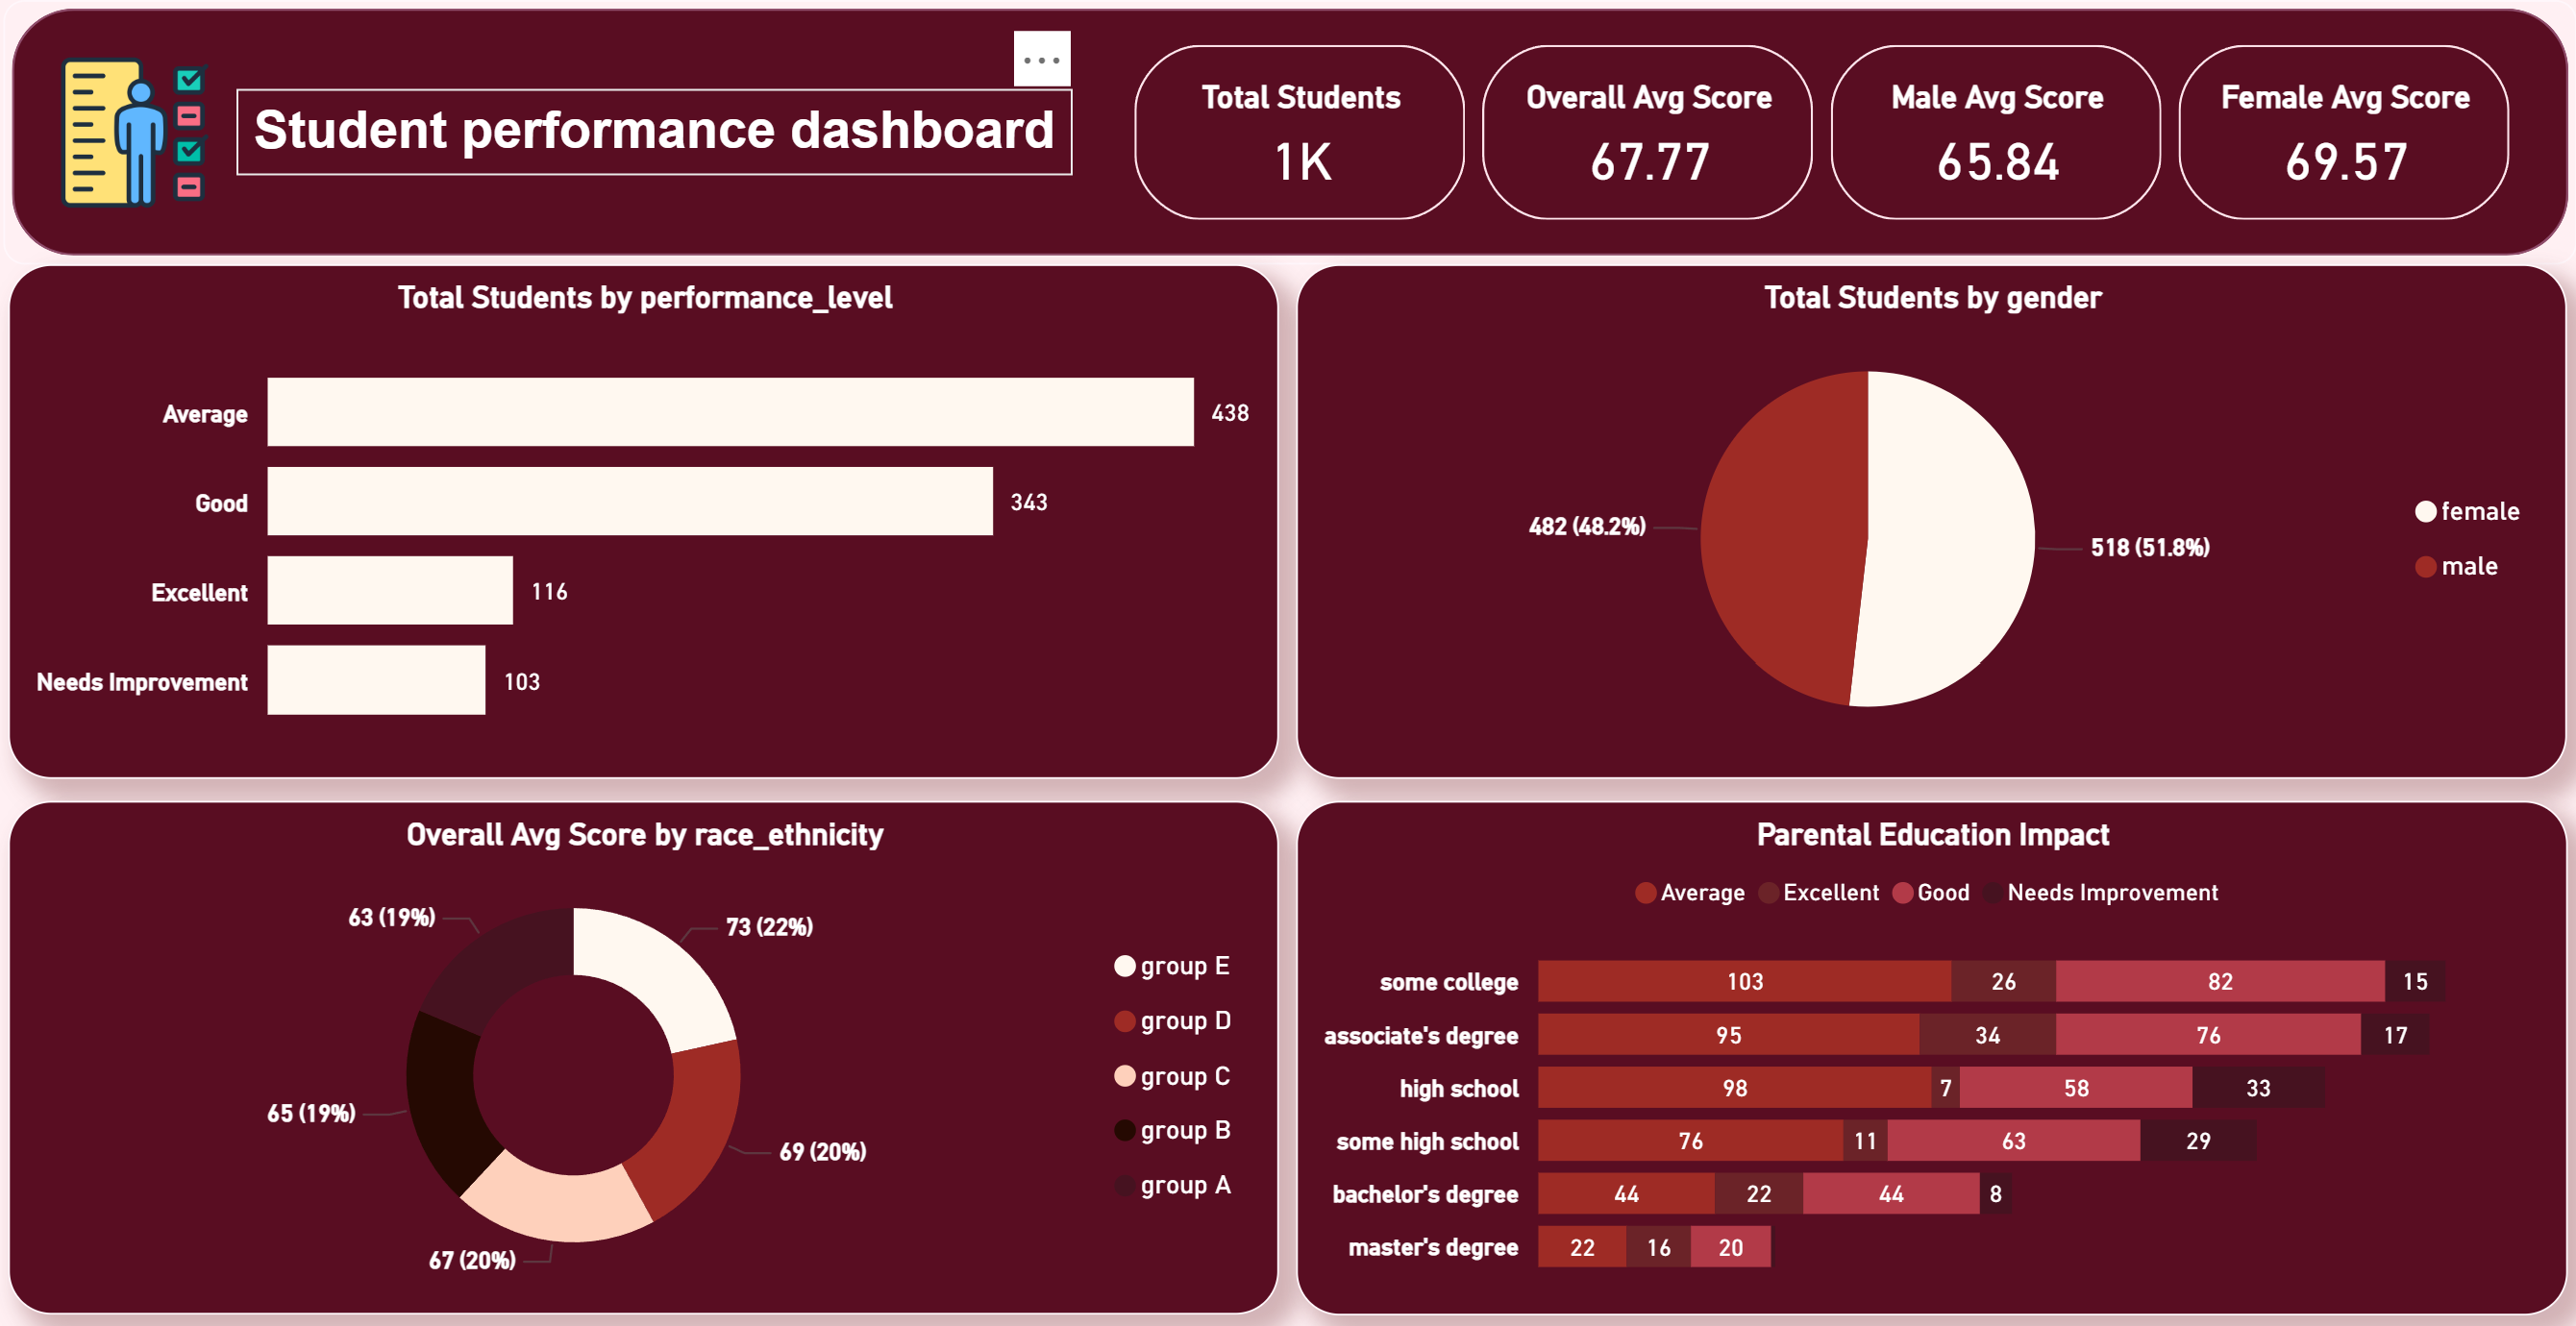

The dashboard page shown, as its layout file describes it:
{"tool":"powerbi","page":{"name":"Page 1","canvas":[1280,720],"ordinal":0},"visuals":[{"type":"shape","box":[6,29.3,1190,122.2],"z":0},{"type":"textbox","box":[113.8,70.4,386.7,40],"z":1000},{"type":"image","box":[19.3,40.4,94.4,100],"z":2000},{"type":"cardVisual","fields":{"Data":["Student_Performance.Total Students","Student_Performance.Overall Avg Score","Student_Performance.Male Avg Score","Student_Performance.Female Avg Score"]},"box":[523.8,44.9,647.8,91.1],"z":3000},{"type":"barChart","fields":{"Y":["Student_Performance.Total Students"],"Category":["Student_Performance.performance_level"]},"box":[7.8,151.1,587.8,237.8],"z":4000},{"type":"pieChart","fields":{"Category":["Student_Performance.gender"],"Y":["Student_Performance.Total Students"]},"box":[603.3,151.1,587.8,237.8],"z":5000},{"type":"donutChart","fields":{"Category":["Student_Performance.race_ethnicity"],"Y":["Student_Performance.Overall Avg Score"]},"box":[7.8,398.9,587.8,237.8],"z":6000},{"type":"barChart","title":"Parental Education Impact","fields":{"Y":["Student_Performance.Total Students"],"Category":["Student_Performance.parental_level_of_education"],"Series":["Student_Performance.performance_level"]},"box":[603,399,588,238],"z":6001}]}

Visuals, with their boxes on the page's 1280x720 design canvas (x1, y1, x2, y2). These are canvas units, not pixel positions in the 2576x1326 screenshot, which may show the page scaled, cropped or inside an application window:
shape: bbox(6, 29, 1196, 152)
textbox: bbox(114, 70, 500, 110)
image: bbox(19, 40, 114, 140)
cardVisual - Student_Performance.Total Students x Student_Performance.Overall Avg Score: bbox(524, 45, 1172, 136)
barChart - Student_Performance.Total Students x Student_Performance.performance_level: bbox(8, 151, 596, 389)
pieChart - Student_Performance.gender x Student_Performance.Total Students: bbox(603, 151, 1191, 389)
donutChart - Student_Performance.race_ethnicity x Student_Performance.Overall Avg Score: bbox(8, 399, 596, 637)
"Parental Education Impact" barChart: bbox(603, 399, 1191, 637)
